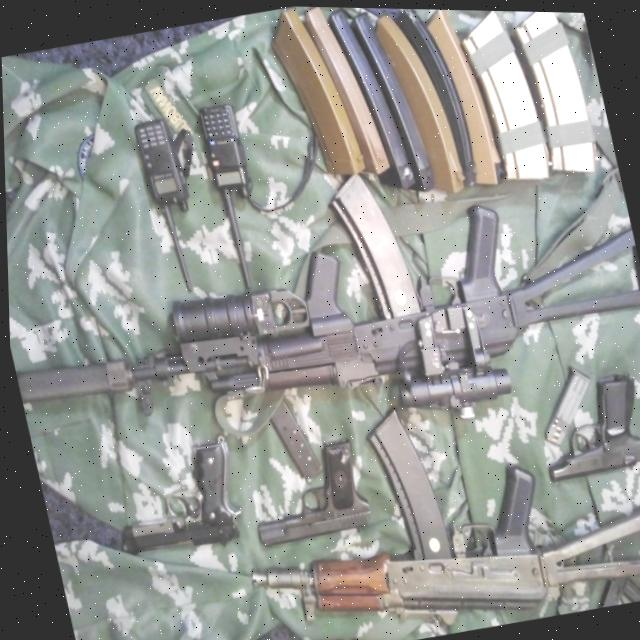firearm: (3, 122, 640, 502), (217, 355, 640, 640)
pistol: (102, 432, 247, 565), (238, 433, 373, 550), (528, 369, 640, 482)
